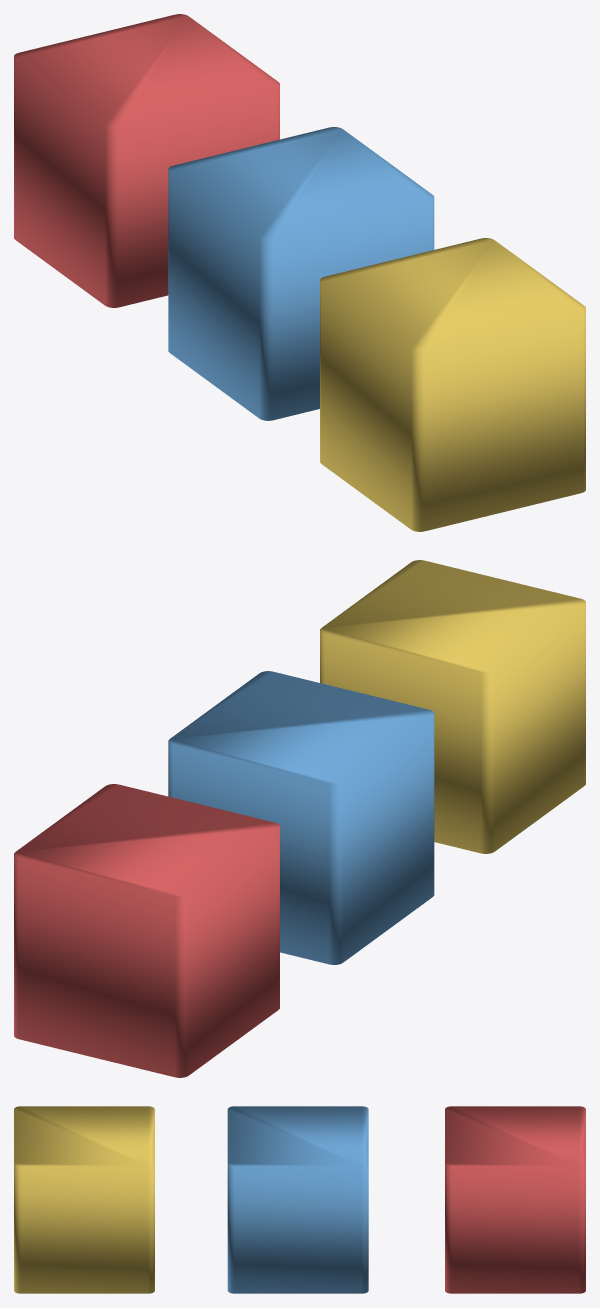
Rendered from obstacles.fbx.
3 views of the same model, one above another, from view 1: azimuth 30°, elevation 25°; view 2: azimuth 150°, elevation 25°; view 3: azimuth 270°, elevation 25° (orthographic). The views are drawn at different scales.
Parts seen in each view (by area): view 1: yellow block, Red block, Blue block; view 2: Red block, Blue block, yellow block; view 3: Blue block, Red block, yellow block.
Boxes of the visible parts, x1=… form: yellow block: x1=320, y1=238, x2=585, y2=531; Red block: x1=14, y1=14, x2=279, y2=307; Blue block: x1=168, y1=127, x2=434, y2=420; Red block: x1=14, y1=784, x2=279, y2=1077; Blue block: x1=168, y1=671, x2=434, y2=964; yellow block: x1=320, y1=560, x2=585, y2=853; Blue block: x1=227, y1=1106, x2=368, y2=1293; Red block: x1=445, y1=1106, x2=585, y2=1293; yellow block: x1=14, y1=1106, x2=154, y2=1293.
Bounding box in the file's own units: 200 × 200 × 811.
